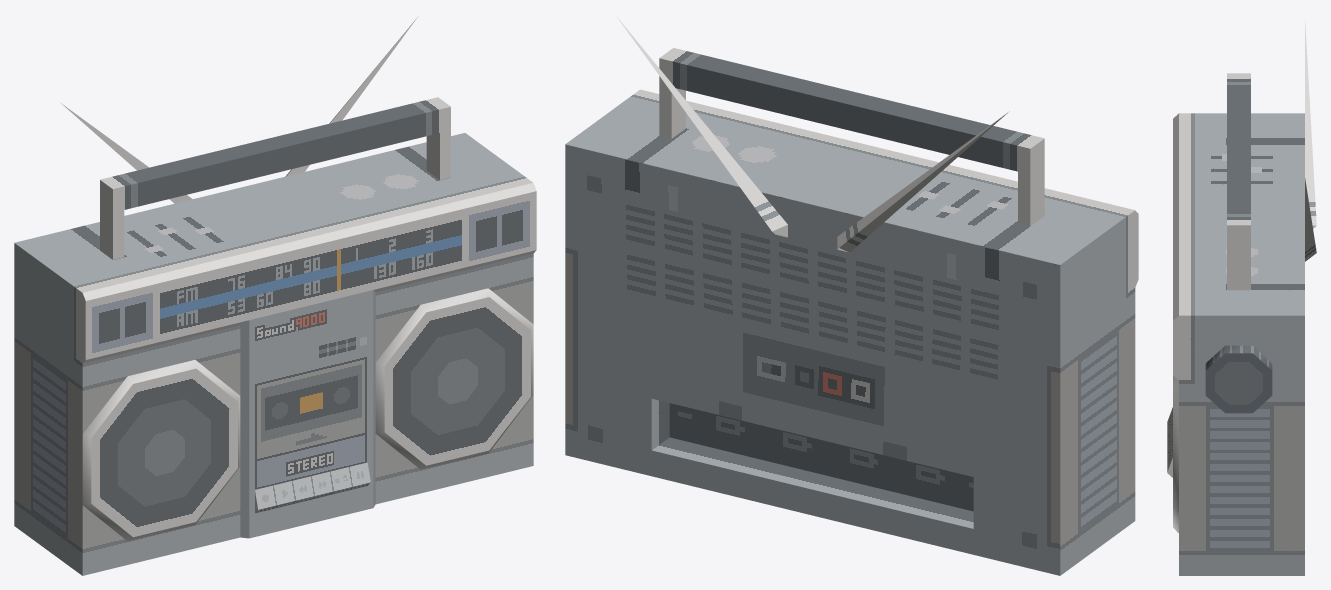
The model's file is PaperSoundMachine2.glb.
3 views of the same model, side by side, from view 1: azimuth 30°, elevation 25°; view 2: azimuth 150°, elevation 25°; view 3: azimuth 270°, elevation 25° (orthographic). The views are drawn at different scales.
Parts seen in each view (by area): view 1: part_0; view 2: part_0; view 3: part_0.
Boxes of the visible parts, bbox=[...] form: part_0: bbox=[14, 16, 536, 575]; part_0: bbox=[565, 17, 1138, 575]; part_0: bbox=[1167, 20, 1316, 575].
Size of the model in its own units: 0.415 by 0.3501 by 0.125.
Materials: 1 (1 with a texture image).
